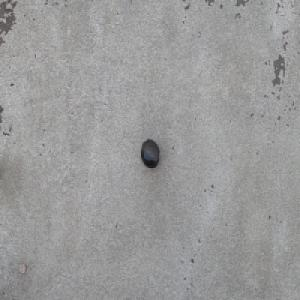FuelCap: (140, 138, 159, 168)
